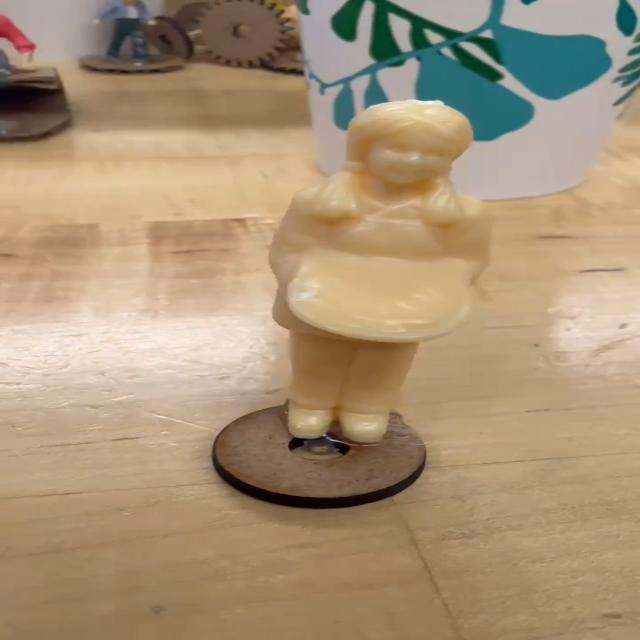Unauthorized: (138, 78, 558, 453)
